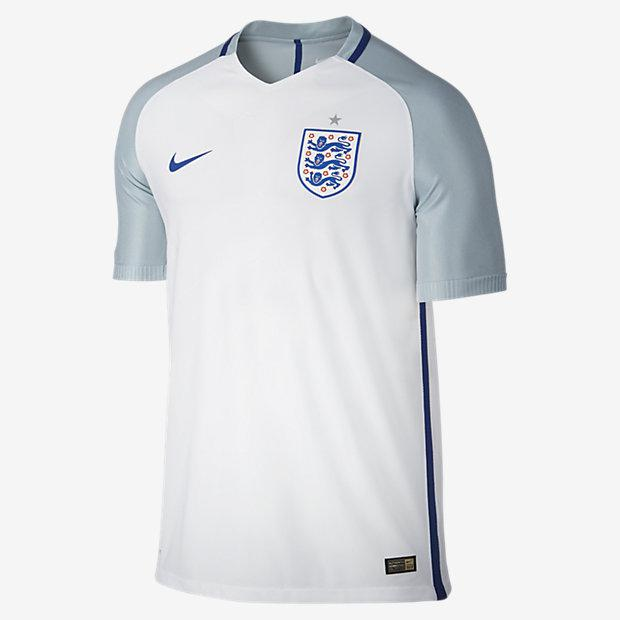teeshirt: (81, 16, 549, 597)
